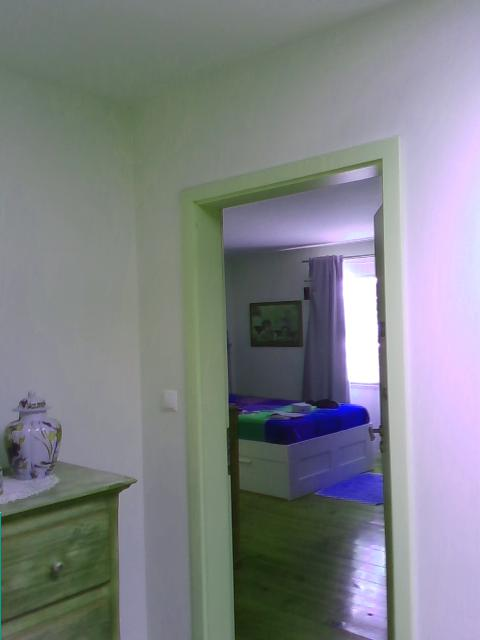open_door: (177, 132, 417, 638)
